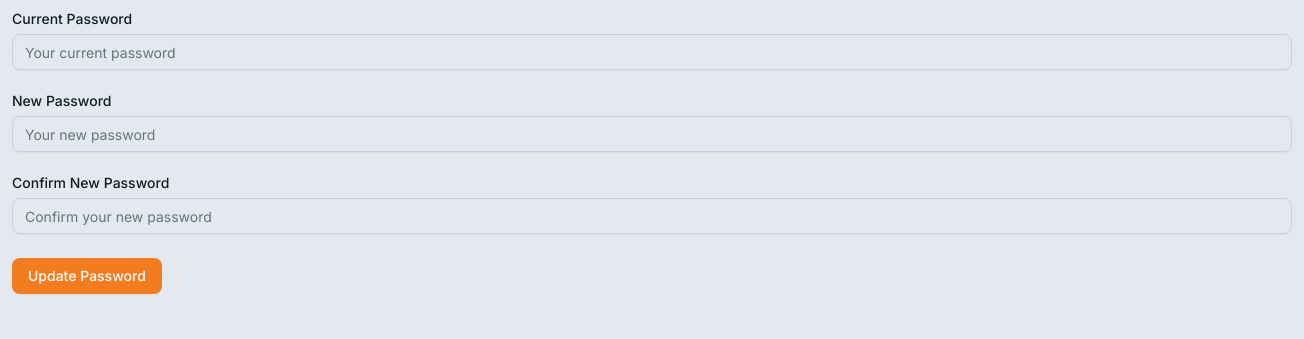
Test: PasswordUpdateForm › validates password matching correctly
In the password field labelled "Current Password": [652, 52] box [12,34,1292,70], type "CurrentPass123"
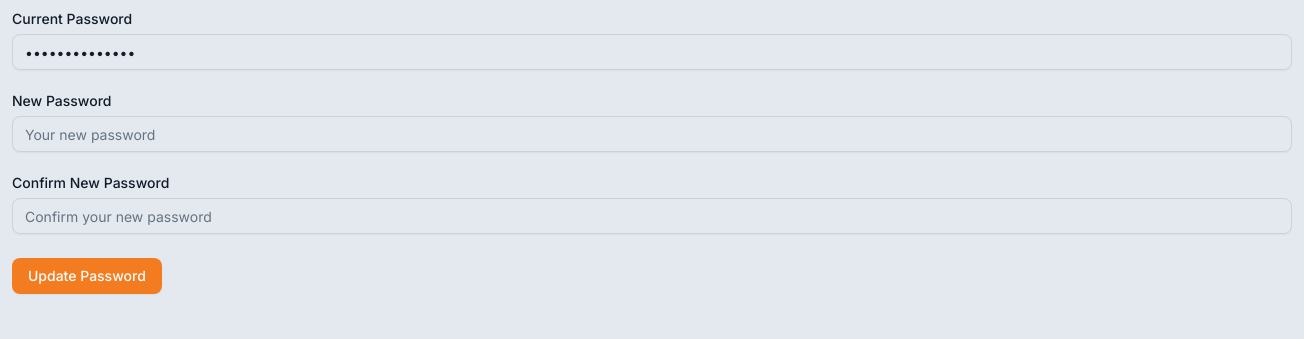
In the password field with placeholder "Your new password": [652, 134] box [12,116,1292,152], type "NewPassword123"
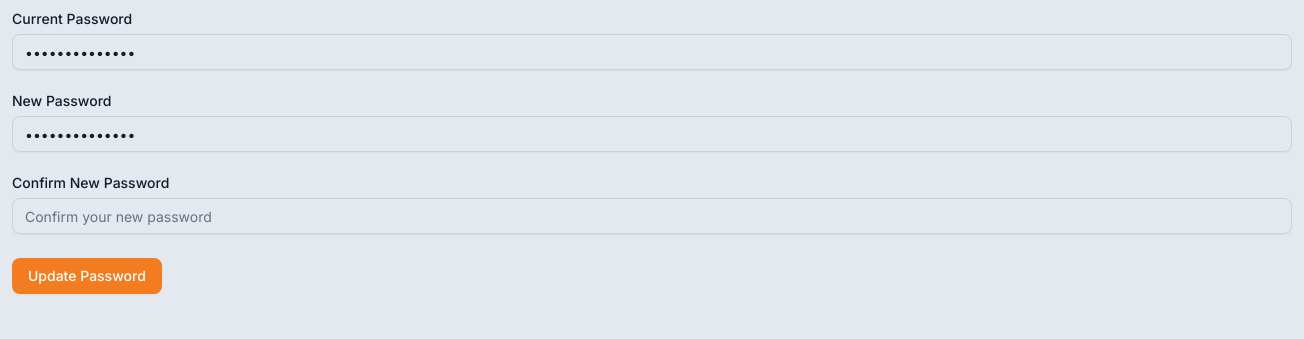
In the password field with placeholder "Confirm your new password": [652, 216] box [12,198,1292,234], type "DifferentPassword123"
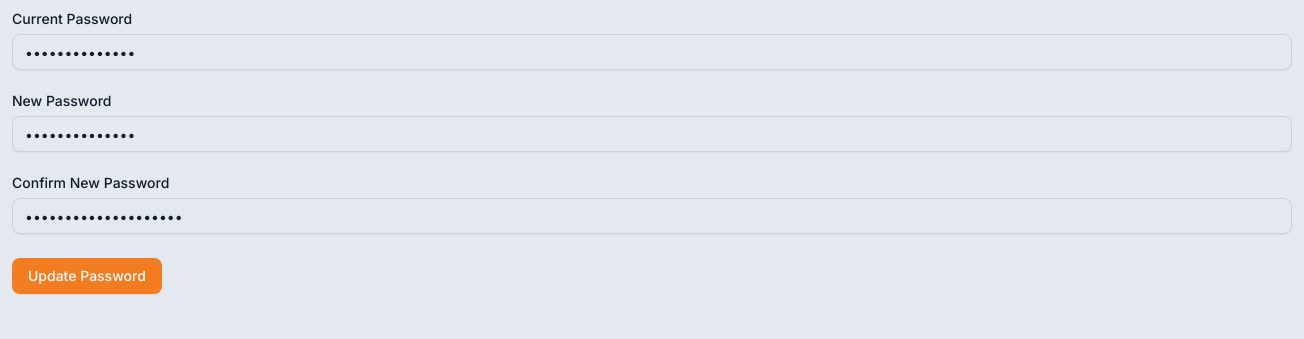
Click the button "Update Password": [87, 276] box [12,258,162,294]
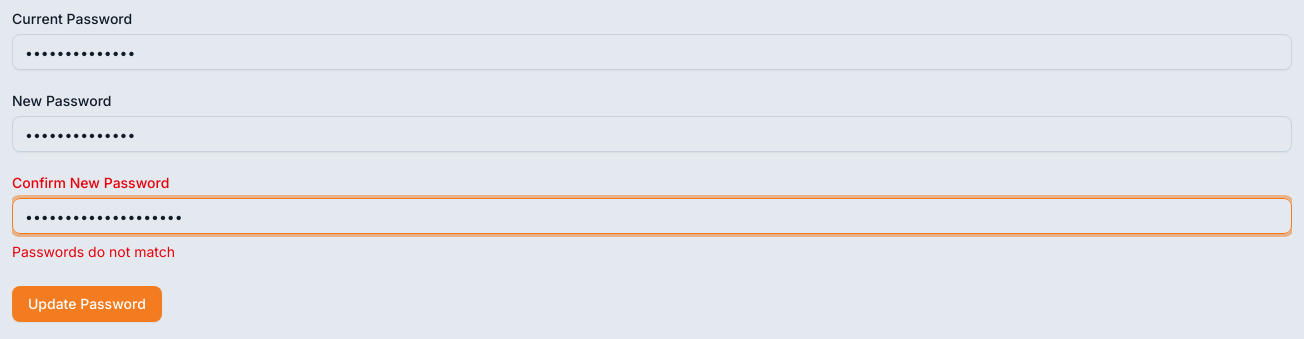
expect the text "Passwords do not match" is shown: met, box [12,243,175,260]
